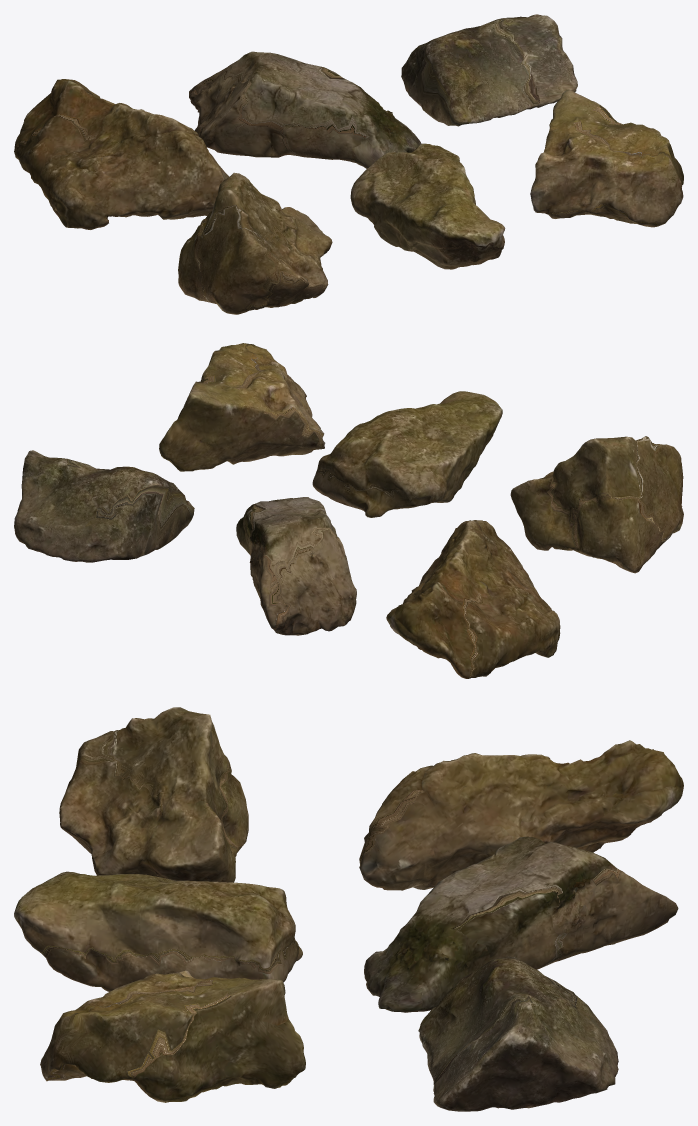
Rendered from rock_moss_set_01.glb.
3 views of the same model, one above another, from view 1: azimuth 30°, elevation 25°; view 2: azimuth 150°, elevation 25°; view 3: azimuth 270°, elevation 25° (orthographic). The views are drawn at different scales.
Visible parts, largest first — view 1: rock_moss_set_01_rock01, rock_moss_set_01_rock02, rock_moss_set_01_rock06, rock_moss_set_01_rock04, rock_moss_set_01_rock03, rock_moss_set_01_rock05; view 2: rock_moss_set_01_rock04, rock_moss_set_01_rock01, rock_moss_set_01_rock05, rock_moss_set_01_rock03, rock_moss_set_01_rock06, rock_moss_set_01_rock02; view 3: rock_moss_set_01_rock01, rock_moss_set_01_rock02, rock_moss_set_01_rock05, rock_moss_set_01_rock04, rock_moss_set_01_rock06, rock_moss_set_01_rock03.
Part boxes in pixels (box(x1,y1,x2,y2)): rock_moss_set_01_rock01: box(14, 79, 229, 229); rock_moss_set_01_rock02: box(189, 51, 421, 168); rock_moss_set_01_rock06: box(530, 89, 683, 227); rock_moss_set_01_rock04: box(178, 172, 332, 314); rock_moss_set_01_rock03: box(401, 14, 577, 126); rock_moss_set_01_rock05: box(350, 143, 505, 269); rock_moss_set_01_rock04: box(510, 436, 683, 573); rock_moss_set_01_rock01: box(386, 520, 560, 678); rock_moss_set_01_rock05: box(312, 391, 502, 517); rock_moss_set_01_rock03: box(14, 450, 194, 562); rock_moss_set_01_rock06: box(159, 343, 325, 471); rock_moss_set_01_rock02: box(236, 497, 356, 635); rock_moss_set_01_rock01: box(359, 740, 683, 890); rock_moss_set_01_rock02: box(364, 836, 678, 1012); rock_moss_set_01_rock05: box(14, 871, 302, 991); rock_moss_set_01_rock04: box(59, 707, 248, 882); rock_moss_set_01_rock06: box(40, 970, 305, 1102); rock_moss_set_01_rock03: box(418, 956, 618, 1111).
Size of the model in its own units: 8 by 1.77 by 6.95.
Materials: 1 (1 with a texture image).
